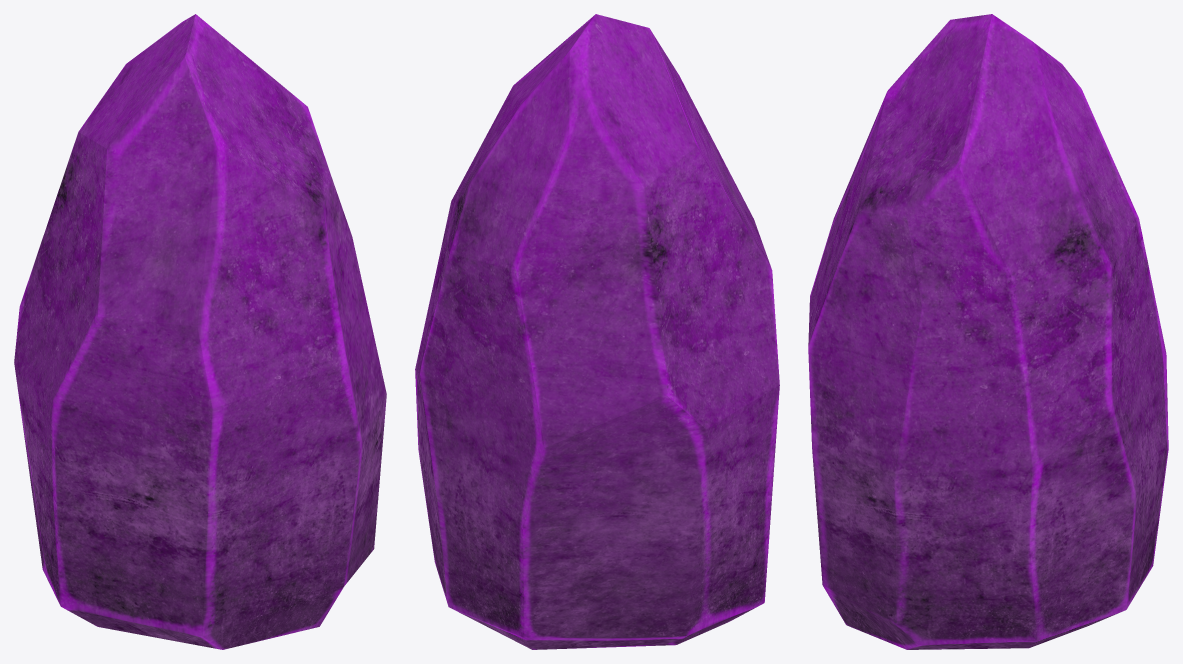
File: linemate.glb
3 views of the same model, side by side, from view 1: azimuth 30°, elevation 25°; view 2: azimuth 150°, elevation 25°; view 3: azimuth 270°, elevation 25° (orthographic). The views are drawn at different scales.
Visible parts, largest first — view 1: crystal_low; view 2: crystal_low; view 3: crystal_low.
Boxes of the visible parts, bbox=[...] form: crystal_low: bbox=[14, 14, 386, 649]; crystal_low: bbox=[415, 14, 779, 649]; crystal_low: bbox=[808, 14, 1168, 649].
Size of the model in its own units: 10.66 by 18.53 by 10.3.
Materials: 1 (1 with a texture image).
